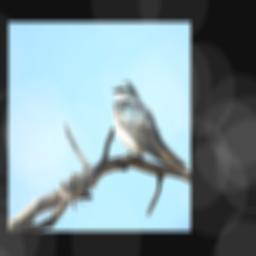Swallow: (112, 80, 188, 172)
